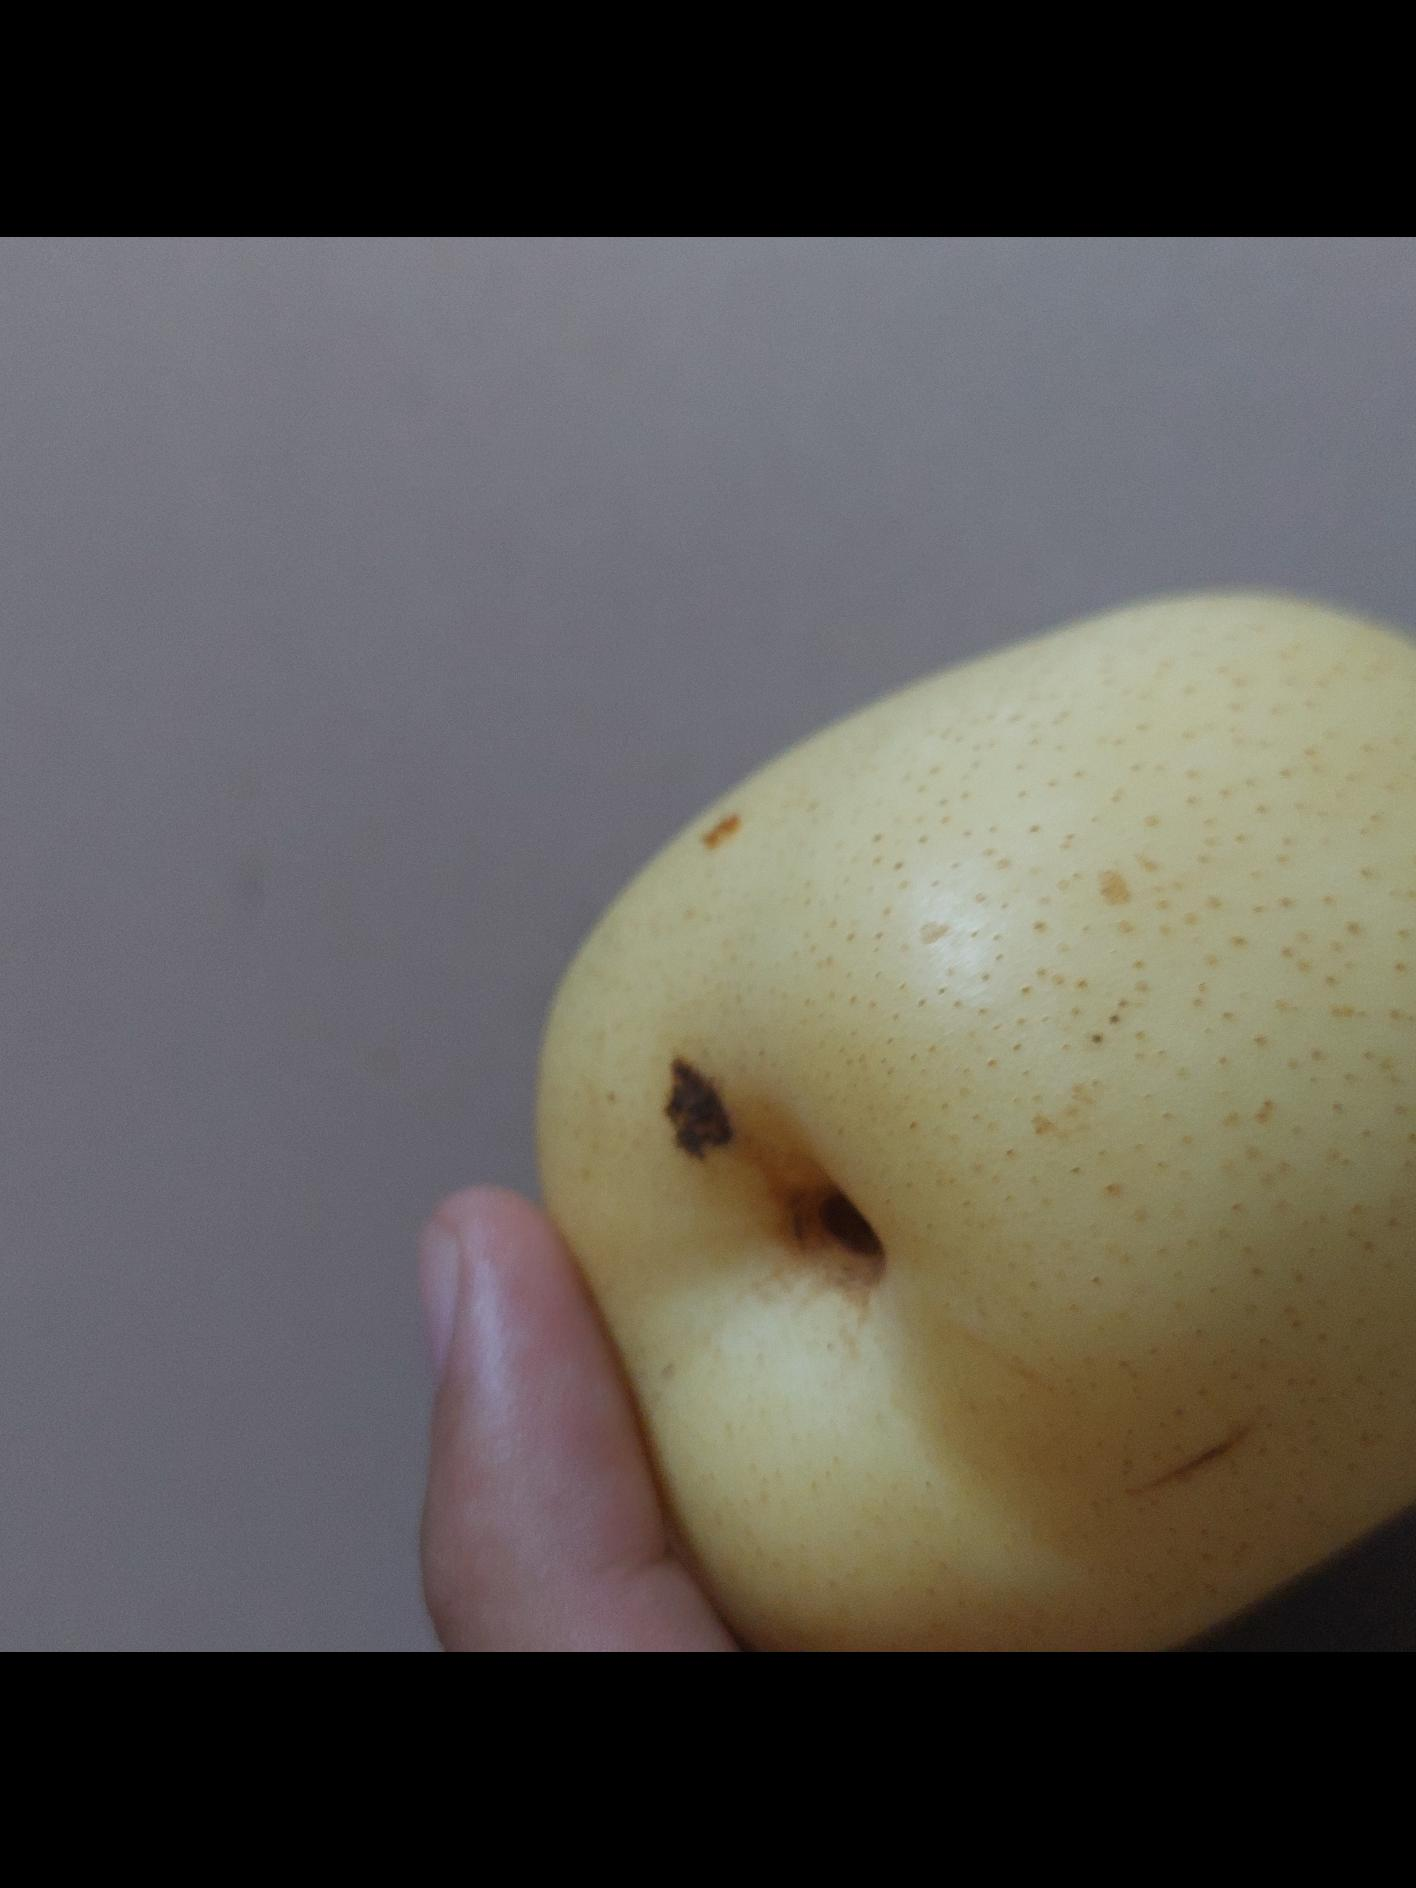Good Pear: (543, 572, 1416, 1652)
